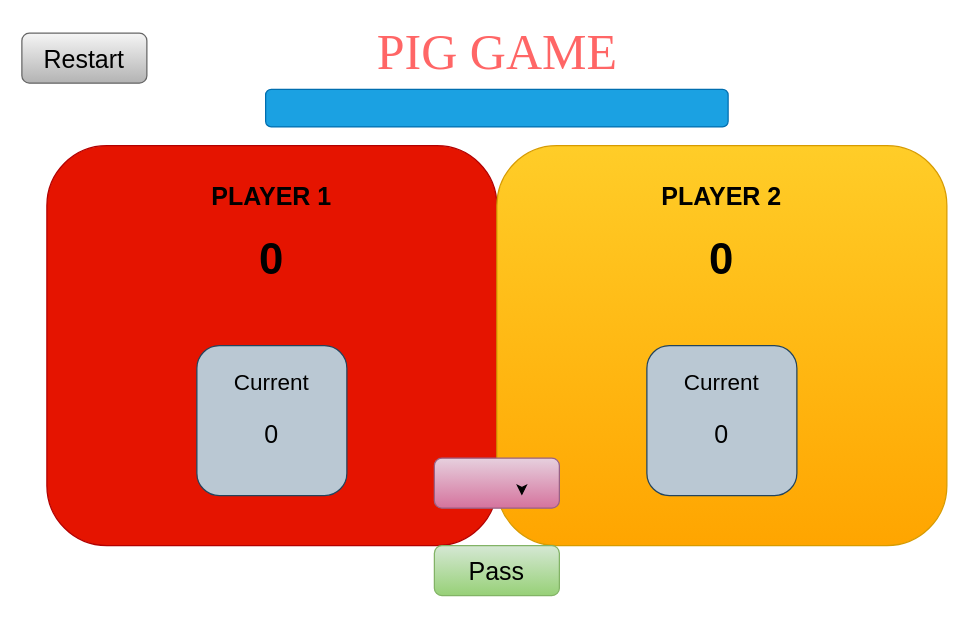
This 969x618 diagram has some shape labels left out. Here are the shapes that lost their labels. From the top down, the centre of each, then its label:
At point 496,107: "May the odds be in your favour....".
At point 496,482: "Roll".
